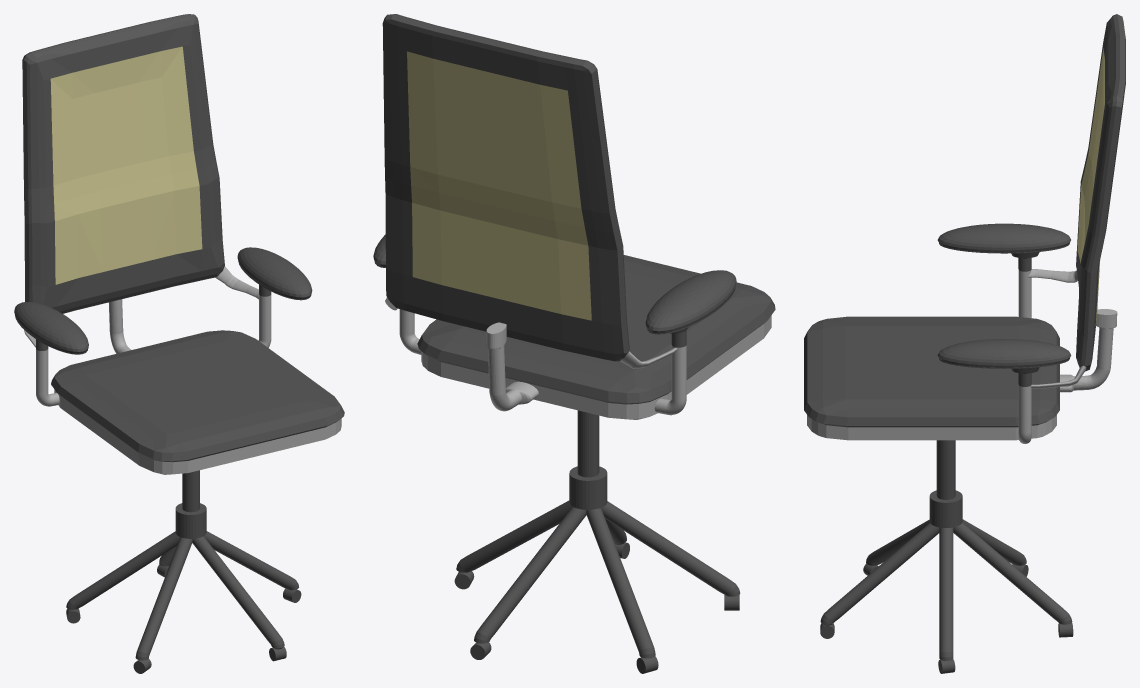
File: office_chair_near_white_table_visual.dae
The picture shows the model from 3 angles, left to right: view 1: azimuth 30°, elevation 25°; view 2: azimuth 150°, elevation 25°; view 3: azimuth 270°, elevation 25°; orthographic projection. The views are drawn at different scales.
Visible parts, largest first — view 1: Cylinder_001, Cylinder_000; view 2: Cylinder_001, Cylinder_002; view 3: Cylinder_001, Cylinder_000.
Part boxes in pixels (bbox=[...]): Cylinder_001: bbox=[14, 14, 344, 673]; Cylinder_000: bbox=[50, 46, 202, 284]; Cylinder_001: bbox=[373, 14, 775, 673]; Cylinder_002: bbox=[407, 51, 591, 320]; Cylinder_001: bbox=[804, 14, 1125, 673]; Cylinder_000: bbox=[1077, 48, 1104, 263].
Bounding box in the file's own units: 60.93 × 60.93 × 118.
